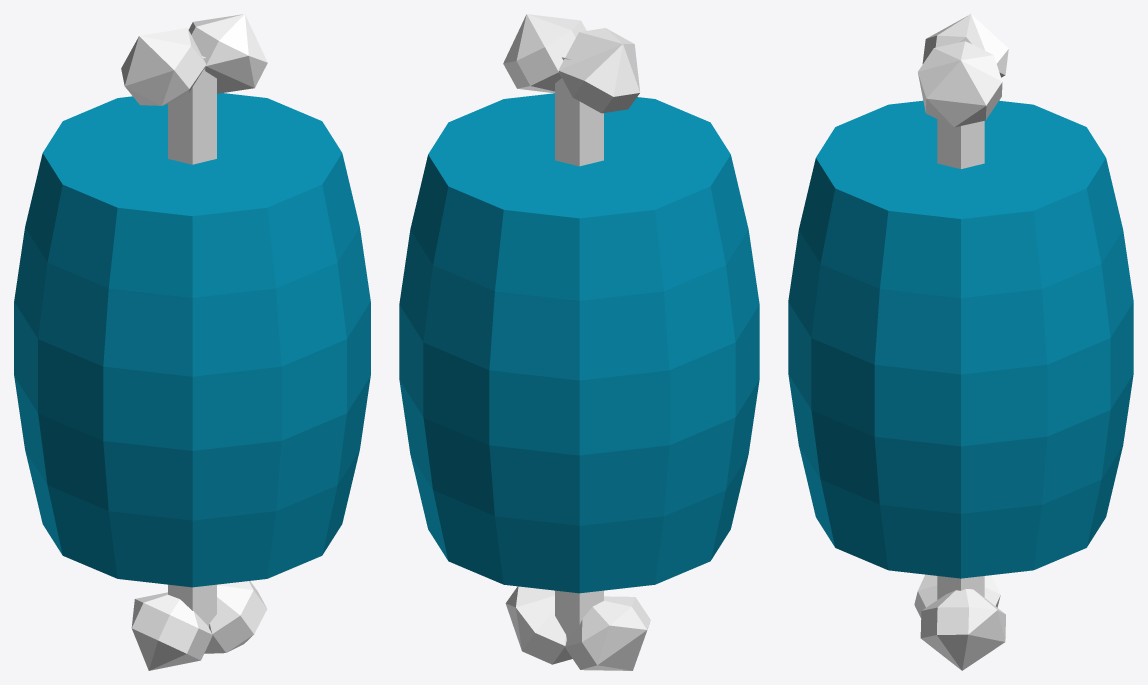
File: bluemeat.fbx
3 views of the same model, side by side, from view 1: azimuth 30°, elevation 25°; view 2: azimuth 150°, elevation 25°; view 3: azimuth 270°, elevation 25° (orthographic). The views are drawn at different scales.
Visible parts, largest first — view 1: polySurface1, polySurface2; view 2: polySurface1, polySurface2; view 3: polySurface1, polySurface2.
Boxes of the visible parts, x1,y1,x2,y2 form: polySurface1: (14, 93, 370, 587); polySurface2: (121, 14, 267, 670); polySurface1: (399, 93, 759, 593); polySurface2: (503, 14, 650, 670); polySurface1: (788, 100, 1133, 578); polySurface2: (914, 14, 1008, 670).
Size of the model in its own units: 2.38 by 4.64 by 2.38.
